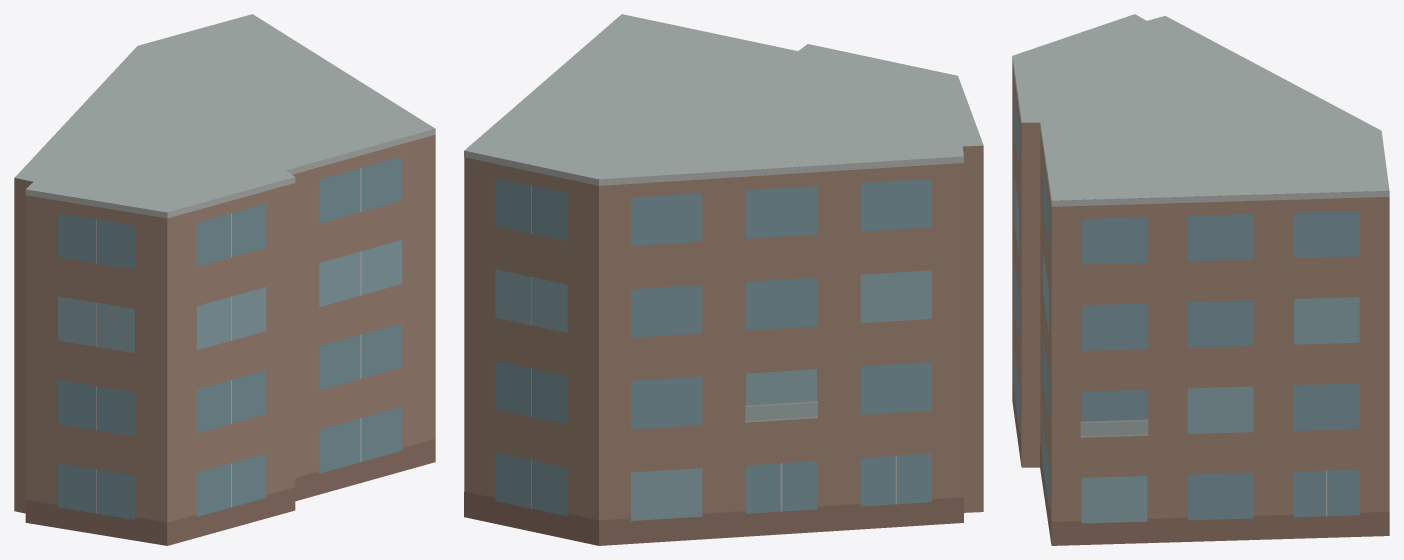
File: survey-upis-32907237.glb
3 views of the same model, side by side, from view 1: azimuth 30°, elevation 25°; view 2: azimuth 150°, elevation 25°; view 3: azimuth 270°, elevation 25° (orthographic). The views are drawn at different scales.
Parts seen in each view (by area): view 1: survey-upis-32907237.tmp; view 2: survey-upis-32907237.tmp; view 3: survey-upis-32907237.tmp.
Boxes of the visible parts, left/top/right/bottom form: survey-upis-32907237.tmp: left=14, top=14, right=435, bottom=545; survey-upis-32907237.tmp: left=464, top=14, right=983, bottom=545; survey-upis-32907237.tmp: left=1012, top=14, right=1389, bottom=545.
Bounding box in the file's own units: 15.96 × 13.75 × 13.62.
